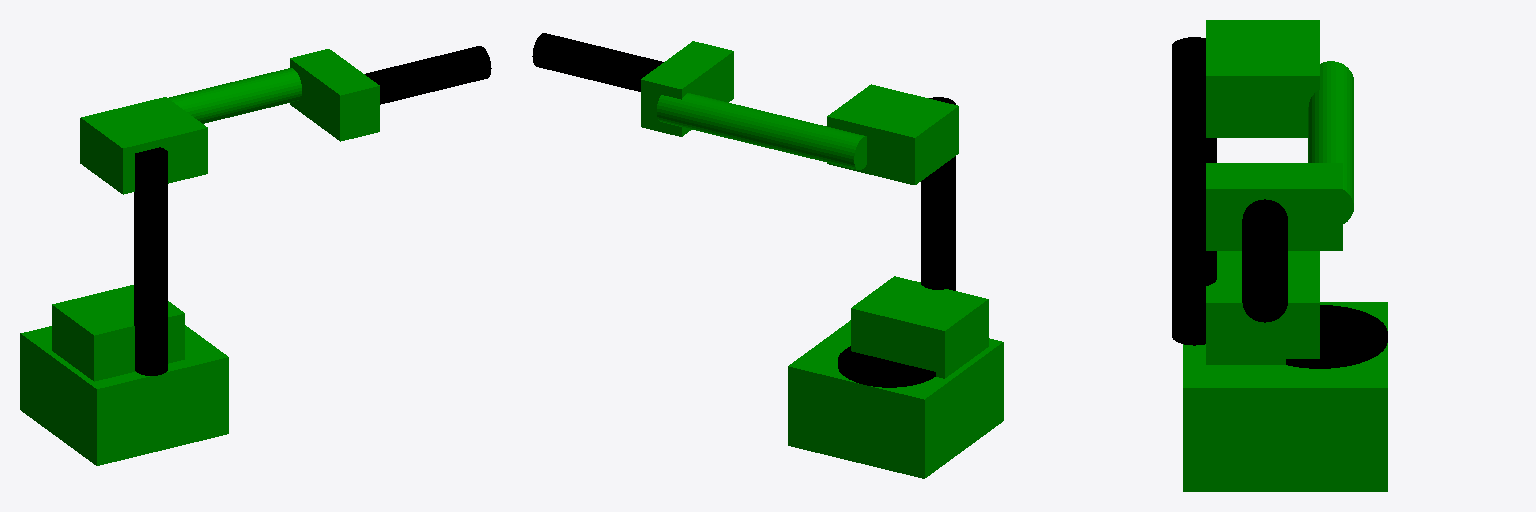
robot.urdf — robotic_arm:
<?xml version="1.0"?>
<robot name="robotic_arm">

    <material name="black">
        <color rgba="0 0 0 1"/>
    </material>

    <material name="green">
        <color rgba="0 0.6 0 1"/>
    </material>

    <link name="base_link">
        <visual>
            <geometry>
                <box size="0.09 0.09 0.05"/>
            </geometry>
            <origin xyz="0.015 -0.015 0.025" rpy="0 0 0"/>
            <material name="green" />
        </visual>
    </link>
        
    <joint name="teta_1" type="revolute">
        <parent link="base_link"/>
        <child link="link_1"/>
        <origin xyz="0 0 0.05" rpy="0 0 0"/>
        <axis xyz="0 0 1"/>
        <limit lower="0" upper="3.1416" effort="1.0" velocity="1.0"/>
    </joint>

    <link name="link_1">
        <visual>
            <geometry>
                <cylinder radius="0.03" length="0.003"/>
            </geometry>
            <origin xyz="0.01 0 0.0015" rpy="0 0 0"/>
            <material name="black" />
        </visual>
        <visual>
            <geometry>
                <box size="0.062 0.05 0.03"/>
            </geometry>
            <origin xyz="0.005 -0.025 0.015" rpy="0 0 0"/>
            <material name="green"/>
        </visual>
    </link>

    <joint name="teta_2" type="revolute">
        <parent link="link_1"/>
        <child link="link_2"/>
        <origin xyz="0.01 -0.05 0.012" rpy="0 0 0"/>
        <axis xyz="0 1 0"/>
        <limit lower="-1.5708" upper="1.5708" effort="1.0" velocity="1.0"/>
    </joint>

    <link name="link_2">
        <visual>
            <geometry>
                <cylinder radius="0.01" length="0.14"/>
            </geometry>
            <origin xyz="0 -0.005 0.06" rpy="0 0 0"/>
            <material name="black" />
        </visual>
        <visual>
            <geometry>
                <box size="0.058 0.05 0.03"/>
            </geometry>
            <origin xyz="0.0125 0.025 0.12" rpy="0 0 0"/>
            <material name="green"/>
        </visual>
    </link>

    <joint name="teta_3" type="revolute">
        <parent link="link_2"/>
        <child link="link_3"/>
        <origin xyz="0.025 0.05 0.12" rpy="0 0 0"/>
        <axis xyz="0 1 0"/>
        <limit lower="0" upper="1.5708" effort="1.0" velocity="1.0"/>
    </joint>

    <link name="link_3">
        <visual>
            <geometry>
                <cylinder radius="0.01" length="0.13"/>
            </geometry>
            <origin xyz="0.055 0.005 0" rpy="0 1.5708 0"/>
            <material name="green" />
        </visual>
        <visual>
            <geometry>
                <box size="0.027 0.06 0.03"/>
            </geometry>
            <origin xyz="0.12 -0.02 0" rpy="0 0 0"/>
            <material name="green"/>
        </visual>
    </link>

    <joint name="gripper_joint" type="fixed">
        <parent link="link_3"/>
        <child link="gripper"/>
        <origin xyz="0.1335 -0.024 0" rpy="0 0 0"/>
    </joint>

    <link name="gripper">
        <visual>
            <geometry>
                <cylinder radius="0.01" length="0.085"/>
            </geometry>
            <origin xyz="0.0425 0 0" rpy="0 1.5708 0"/>
            <material name="black" />
        </visual>
    </link>

</robot>

--- What the picture shows (computed from the rendered views, not written in the file) ---
Views: 3 orthographic renders of the robot side by side, from view 1: azimuth 30°, elevation 25°; view 2: azimuth 150°, elevation 25°; view 3: azimuth 270°, elevation 25°.
Robot: robotic_arm — 5 links, 4 joints (3 revolute, 1 fixed); root link base_link; default pose: every joint at zero.
Links seen in each view (by area): view 1: base_link, link_2, link_3, link_1, gripper; view 2: base_link, link_2, link_1, link_3, gripper; view 3: base_link, link_2, link_3, link_1, gripper.
Boxes of the visible links, left/top/right/bottom form: base_link: left=20, top=325, right=228, bottom=465; link_2: left=80, top=97, right=207, bottom=375; link_3: left=168, top=49, right=379, bottom=141; link_1: left=52, top=285, right=184, bottom=381; gripper: left=365, top=46, right=491, bottom=104; base_link: left=788, top=320, right=1003, bottom=478; link_2: left=827, top=84, right=958, bottom=290; link_1: left=838, top=276, right=988, bottom=387; link_3: left=641, top=41, right=866, bottom=169; gripper: left=532, top=33, right=663, bottom=91; base_link: left=1183, top=302, right=1387, bottom=491; link_2: left=1172, top=20, right=1319, bottom=345; link_3: left=1206, top=61, right=1353, bottom=250; link_1: left=1206, top=251, right=1387, bottom=368; gripper: left=1242, top=199, right=1287, bottom=322.
Size in the robot's own frame: 0.2835 by 0.095 by 0.197 metres.
Geometry: primitives only (box / cylinder / sphere), no mesh files.
